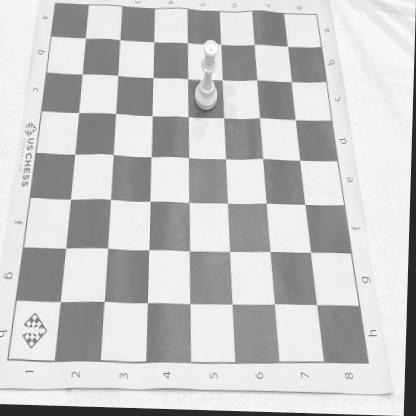white-queen: (195, 41, 220, 112)
